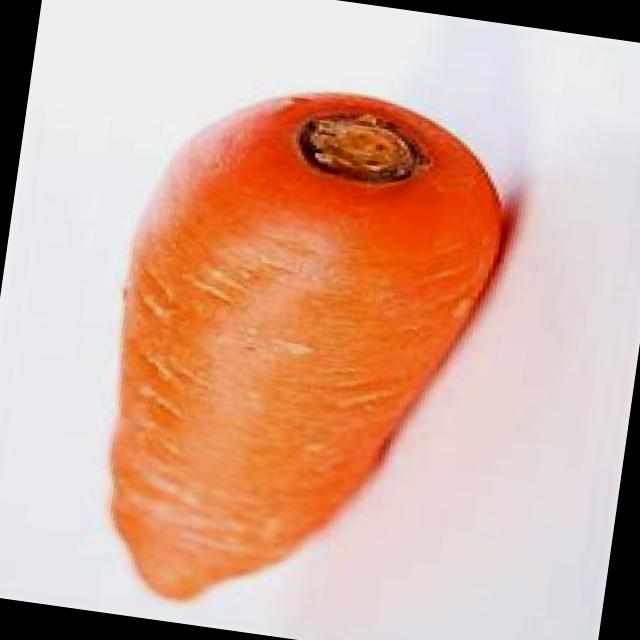carrot: (109, 89, 508, 602)
